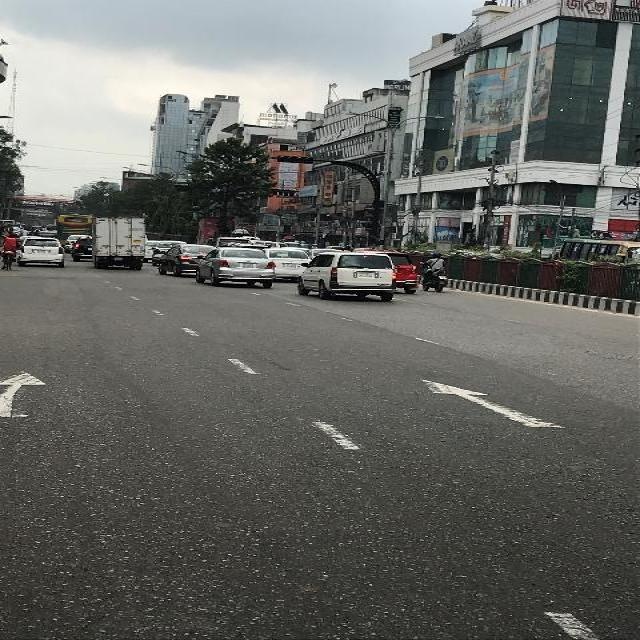bicycle: (3, 234, 16, 272)
bus: (557, 228, 638, 268), (57, 213, 90, 243)
car: (194, 246, 275, 288), (361, 250, 418, 294), (156, 242, 216, 276), (262, 246, 310, 282), (18, 236, 65, 268), (152, 239, 187, 265), (72, 235, 92, 263)
motorbike: (420, 250, 447, 292)
pickup: (90, 215, 145, 271)
suv: (294, 251, 398, 301)
